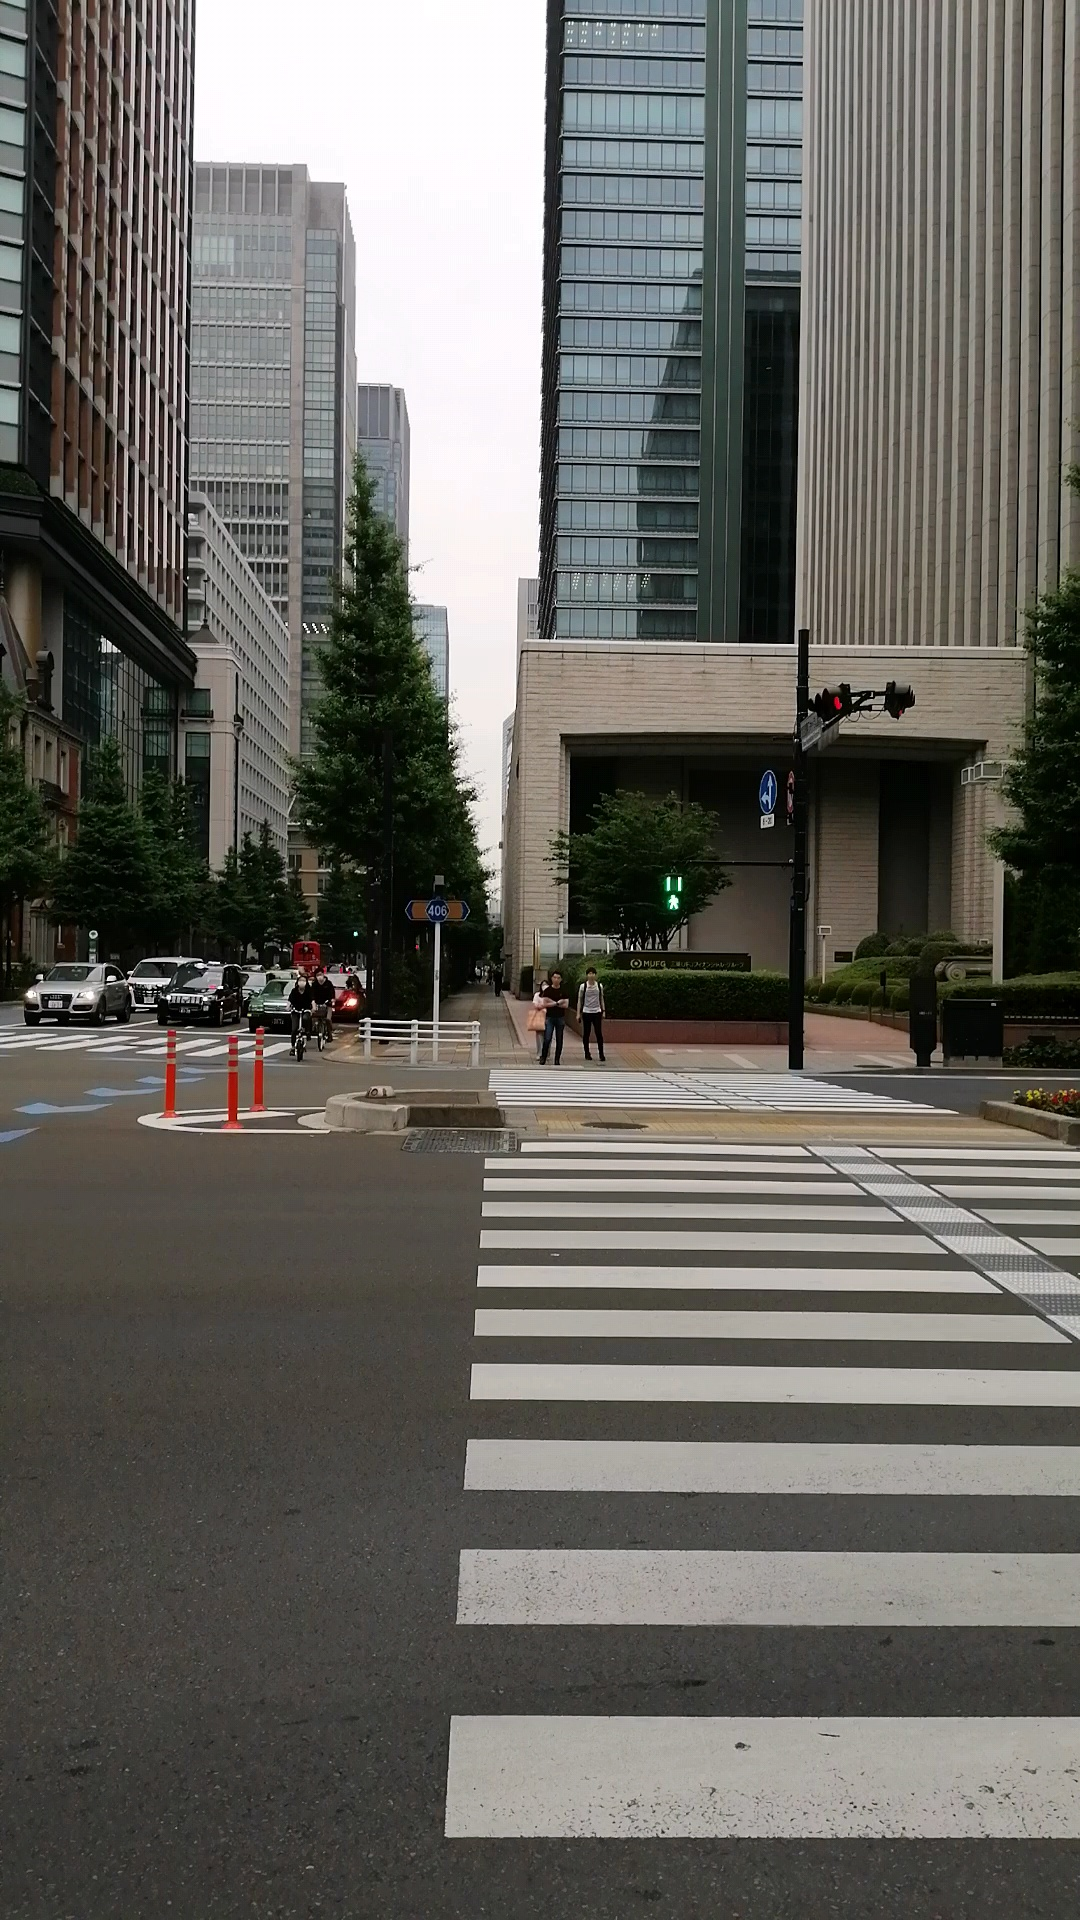green: (659, 870, 684, 915)
